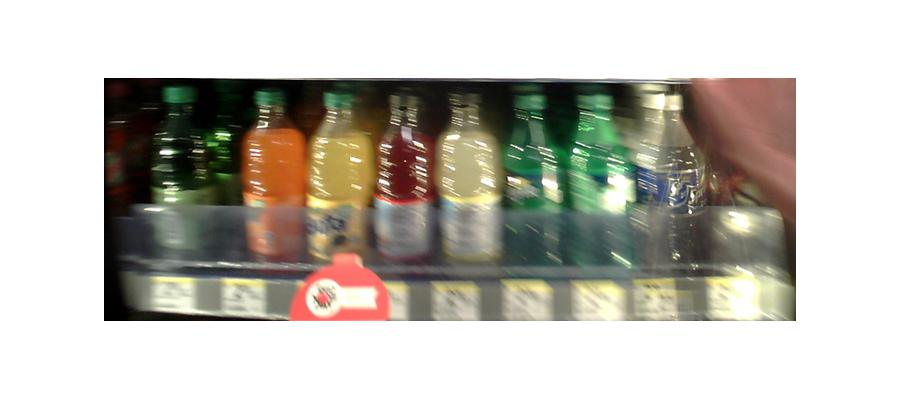bottle: (707, 141, 788, 320), (631, 86, 708, 269), (567, 86, 631, 268), (502, 83, 564, 268), (241, 90, 306, 266), (372, 92, 435, 271), (439, 95, 501, 272), (307, 89, 370, 260), (146, 109, 208, 267)
